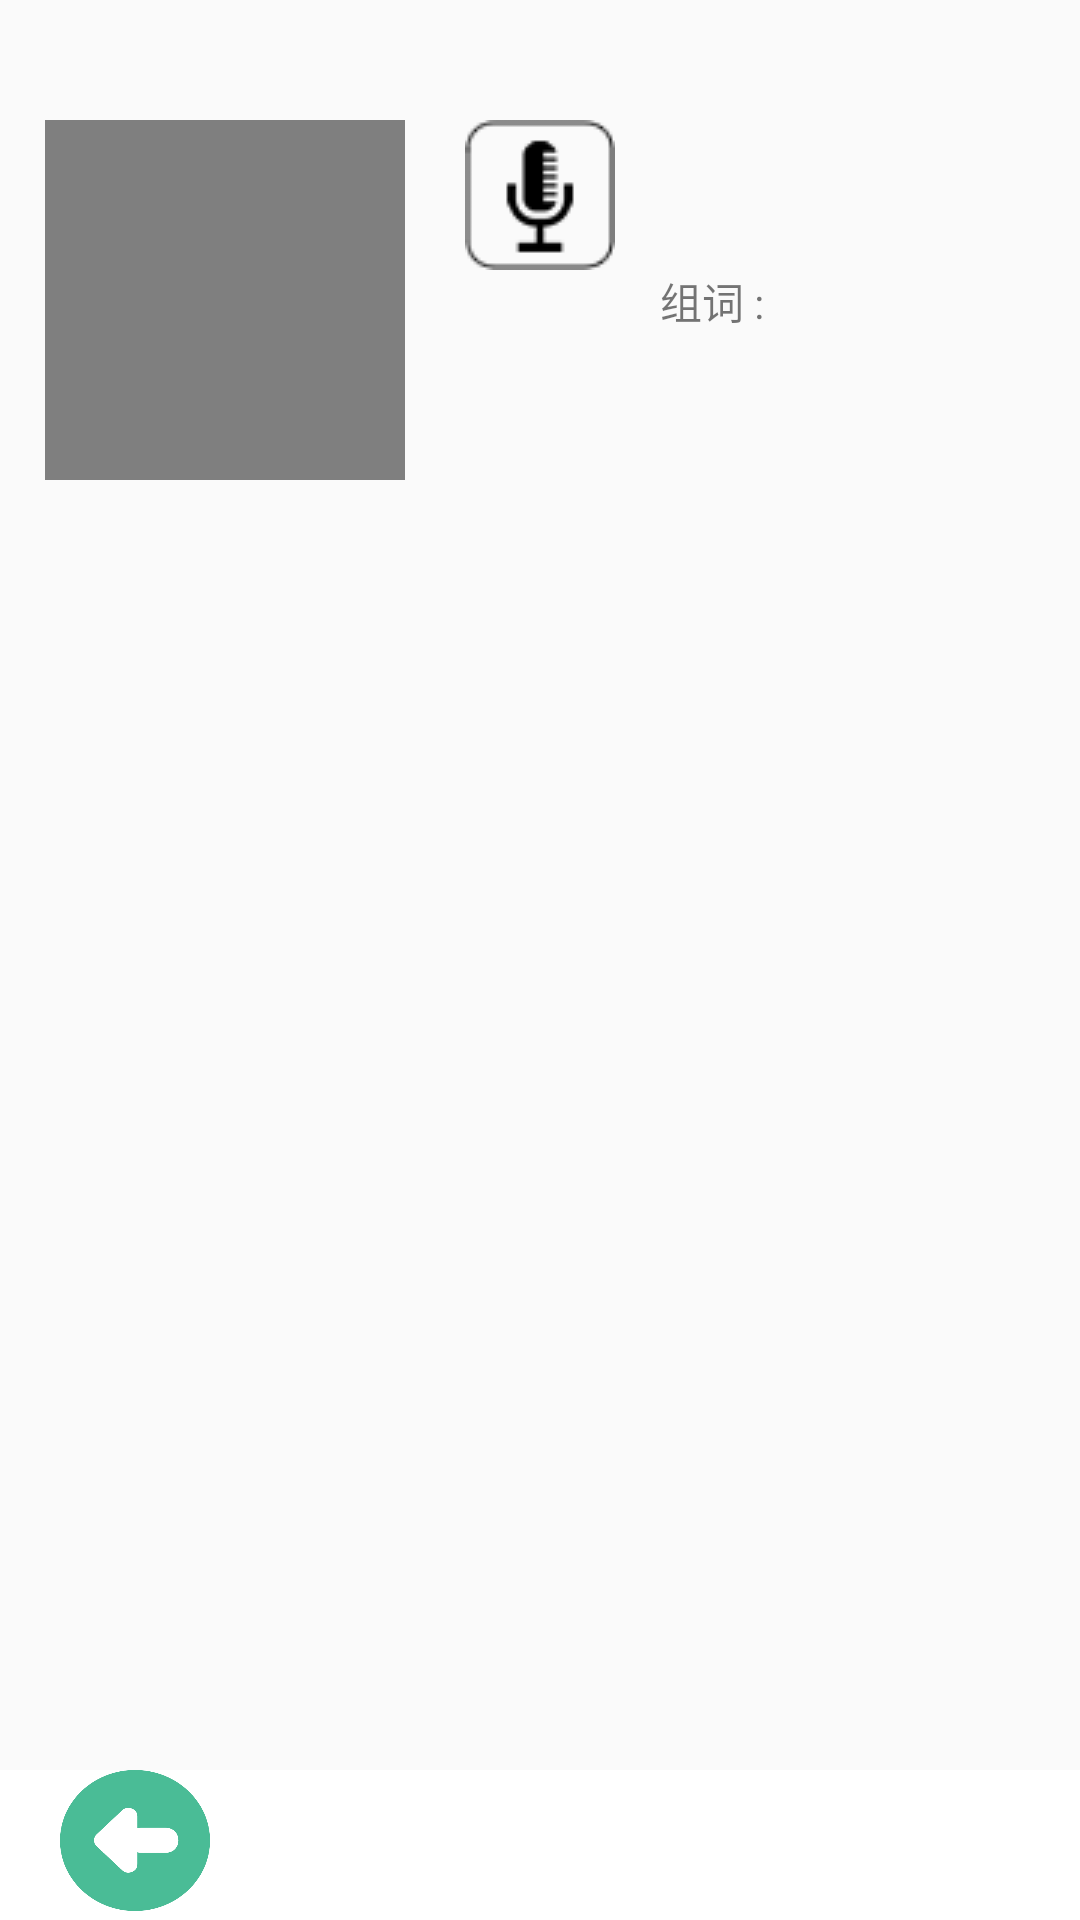

Named icons in this screenshot (1080×1920) and their centers, (x,y):
micsicon: (540,195)
previous: (135,1840)
